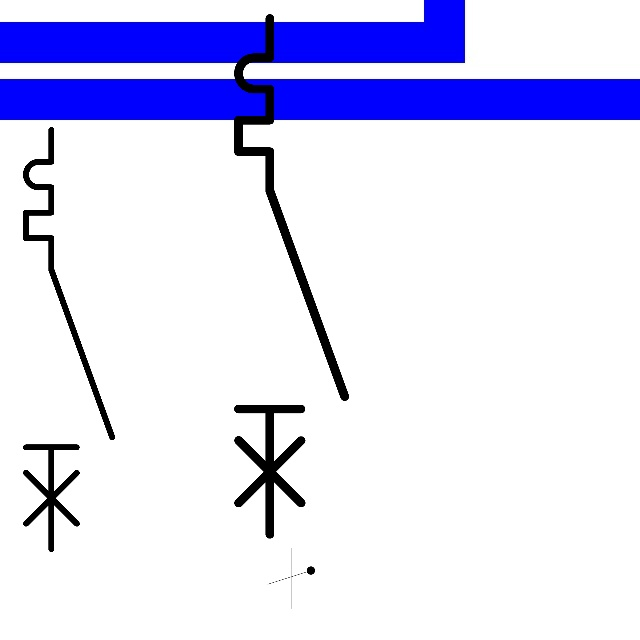interruptor_termomagnetico: (225, 5, 358, 547), (15, 119, 123, 560)
